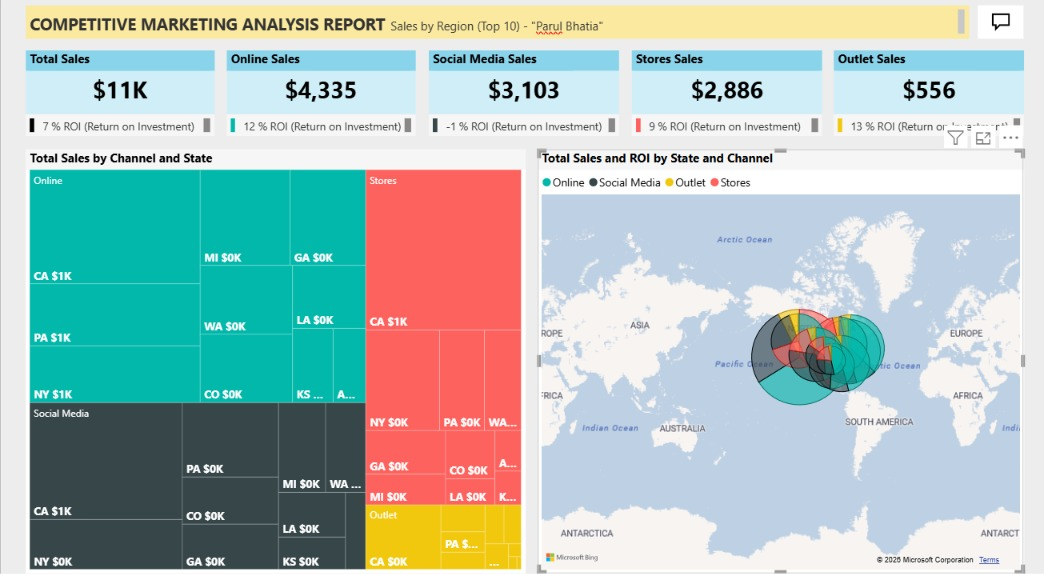

Layout of this report page (visuals, bound fields, positions):
{"tool":"powerbi","page":{"name":"Top 10 Regions","canvas":[1279,720],"ordinal":1},"visuals":[{"type":"treemap","title":"Total Sales by Channel and State","fields":{"Group":["Category.Channel"],"Values":["SalesFact.Total Category Volume"],"Details":["Geo.State"]},"box":[30.2,188.8,609.3,517.4],"z":0},{"type":"textbox","title":"SALES AND MARKETING","box":[30.2,13.9,1150.1,40.7],"z":1000},{"type":"actionButton","box":[1191.9,13.9,55.8,40.7],"z":24000},{"type":"map","title":"Total Sales and ROI by State and Channel","fields":{"Series":["Category.Channel"],"Category":["Geo.State"],"Size":["SalesFact.Total Category Volume"]},"box":[654.6,188.8,592.9,517.4],"z":28000},{"type":"card","title":"Total Sales","fields":{"Values":["KPI.KPI01"]},"box":[30.2,68.5,230,77.8],"z":29000},{"type":"card","title":"Online Sales","fields":{"Values":["KPI.KPI01"]},"box":[275.3,68.5,230,77.8],"z":30000},{"type":"card","title":"Social Media Sales","fields":{"Values":["KPI.KPI01"]},"box":[521.6,68.5,232.3,77.8],"z":31000},{"type":"card","title":"Stores Sales","fields":{"Values":["KPI.KPI01"]},"box":[769,68.5,232.3,77.8],"z":32000},{"type":"card","title":"Outlet Sales","fields":{"Values":["KPI.KPI01"]},"box":[1015.3,68.5,232.3,77.8],"z":33000},{"type":"multiRowCard","fields":{"Values":["KPI.KPI01"]},"box":[30.2,146.4,230,26.7],"z":34000},{"type":"multiRowCard","fields":{"Values":["KPI.KPI01"]},"box":[275.3,146.4,230,26.7],"z":35000},{"type":"multiRowCard","fields":{"Values":["KPI.KPI01"]},"box":[521.6,146.4,232.3,26.7],"z":36000},{"type":"multiRowCard","fields":{"Values":["KPI.KPI01"]},"box":[769,146.4,232.3,26.7],"z":37000},{"type":"multiRowCard","fields":{"Values":["KPI.KPI01"]},"box":[1015.3,146.4,232.3,26.7],"z":38000}]}

Visuals, with their boxes in screenshot pixels (x1, y1, x2, y2), scaled from the page's 1279x720 canvas onto the 1044x574 screenshot:
"Total Sales by Channel and State" treemap: bbox=(25, 151, 522, 563)
"SALES AND MARKETING" textbox: bbox=(25, 11, 963, 44)
actionButton: bbox=(973, 11, 1018, 44)
"Total Sales and ROI by State and Channel" map: bbox=(534, 151, 1018, 563)
"Total Sales" card: bbox=(25, 55, 212, 117)
"Online Sales" card: bbox=(225, 55, 412, 117)
"Social Media Sales" card: bbox=(426, 55, 615, 117)
"Stores Sales" card: bbox=(628, 55, 817, 117)
"Outlet Sales" card: bbox=(829, 55, 1018, 117)
multiRowCard - KPI.KPI01: bbox=(25, 117, 212, 138)
multiRowCard - KPI.KPI01: bbox=(225, 117, 412, 138)
multiRowCard - KPI.KPI01: bbox=(426, 117, 615, 138)
multiRowCard - KPI.KPI01: bbox=(628, 117, 817, 138)
multiRowCard - KPI.KPI01: bbox=(829, 117, 1018, 138)
